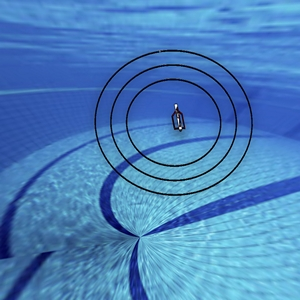circle: (84, 40, 261, 201)
submarine: (162, 99, 194, 136)
